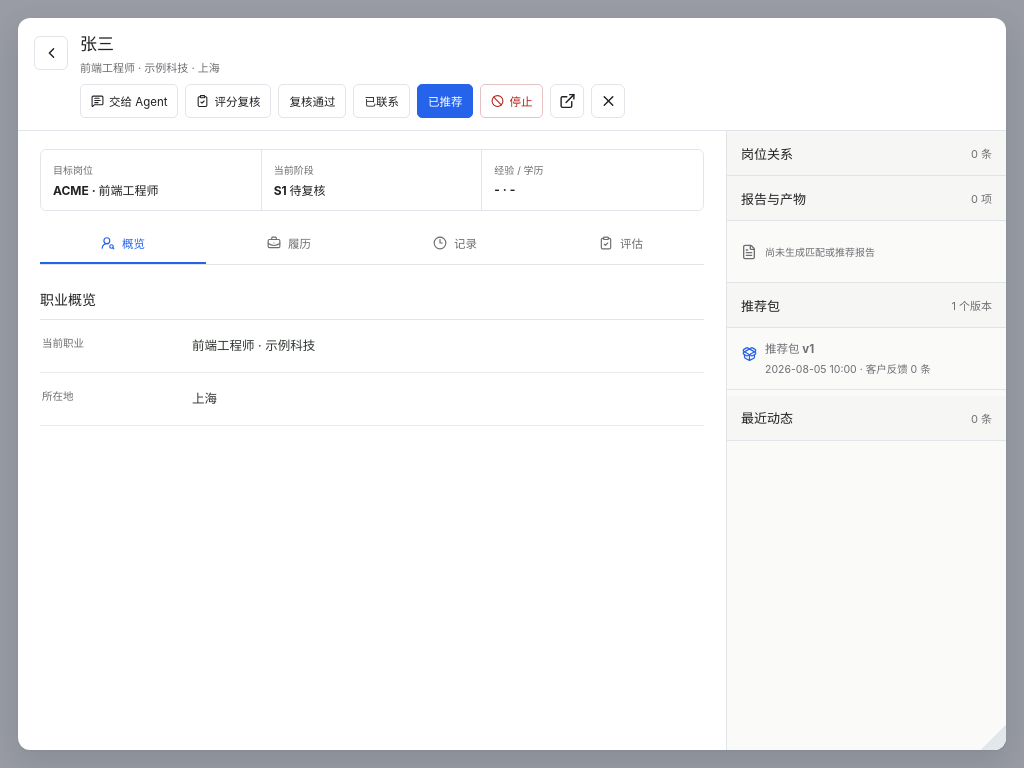
Test: 版本化推荐包（recommendation-packages） › 展开推荐包：展示候选摘要、人岗证据、风险与待核验问题
Click the button with aria-label "查看推荐包 v1". click: [787, 349]
box: [727, 328, 1006, 390]
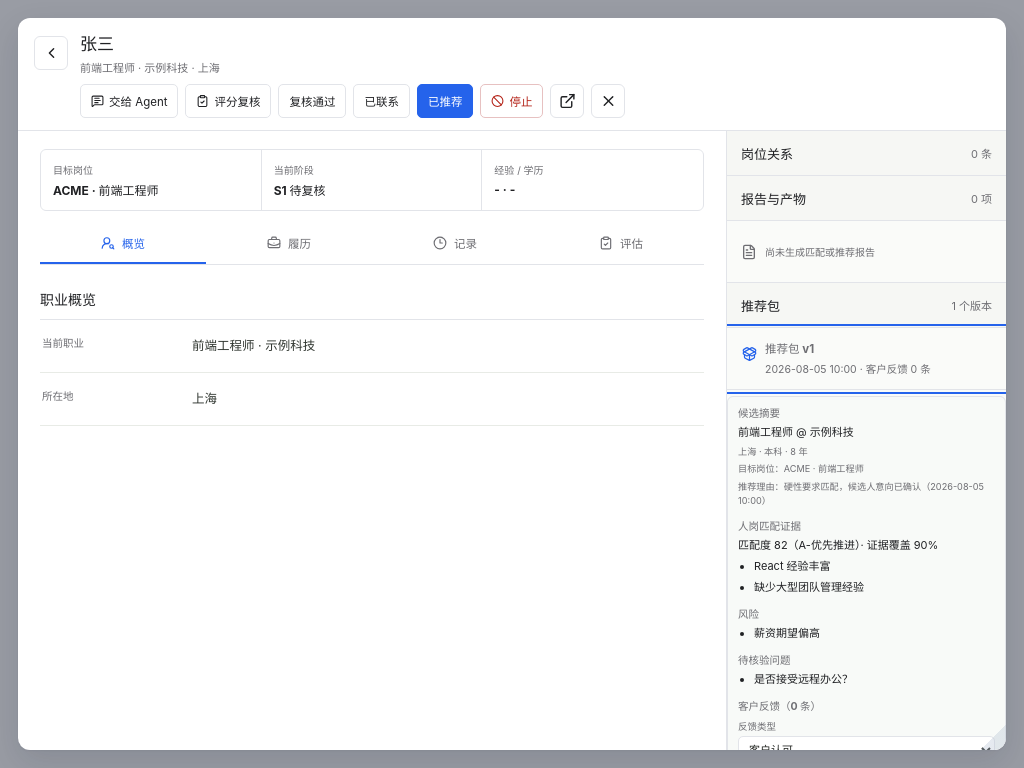
Result: the heading "候选摘要" is shown at [738, 407, 780, 420]
Result: the text "前端工程师 @ 示例科技" is shown at [738, 425, 854, 439]
Result: the text "推荐理由：硬性要求匹配，候选人意向已确认（2026-08-05 10:00）" is shown at [738, 480, 995, 508]
